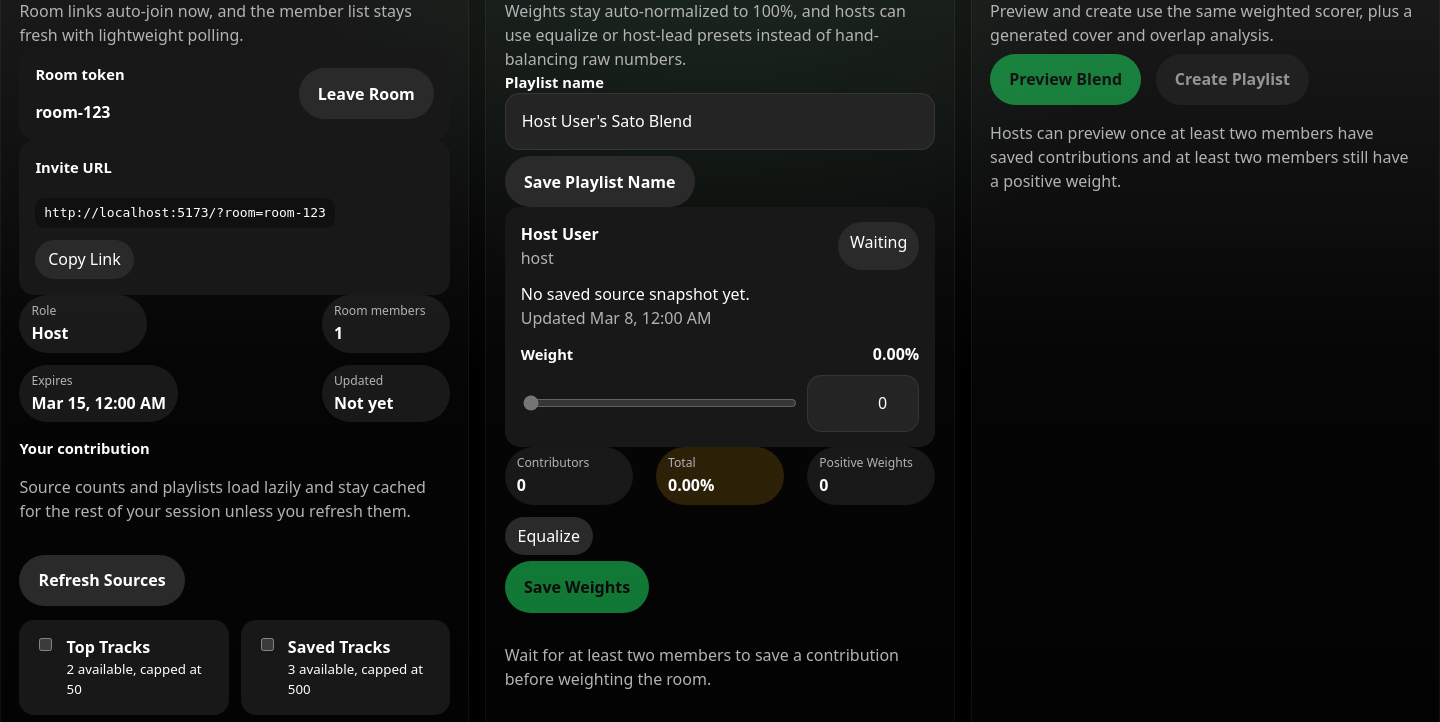
BlendView › saves the current member contribution from supported Spotify sources
What coordinates should you click on to do the following:
click the checkbox labelled "Top Tracks 2 available, capped at 50"
I would click on:
 (46, 644)
Its box is top-left (39, 638), bottom-right (52, 651).
(page scrolled)
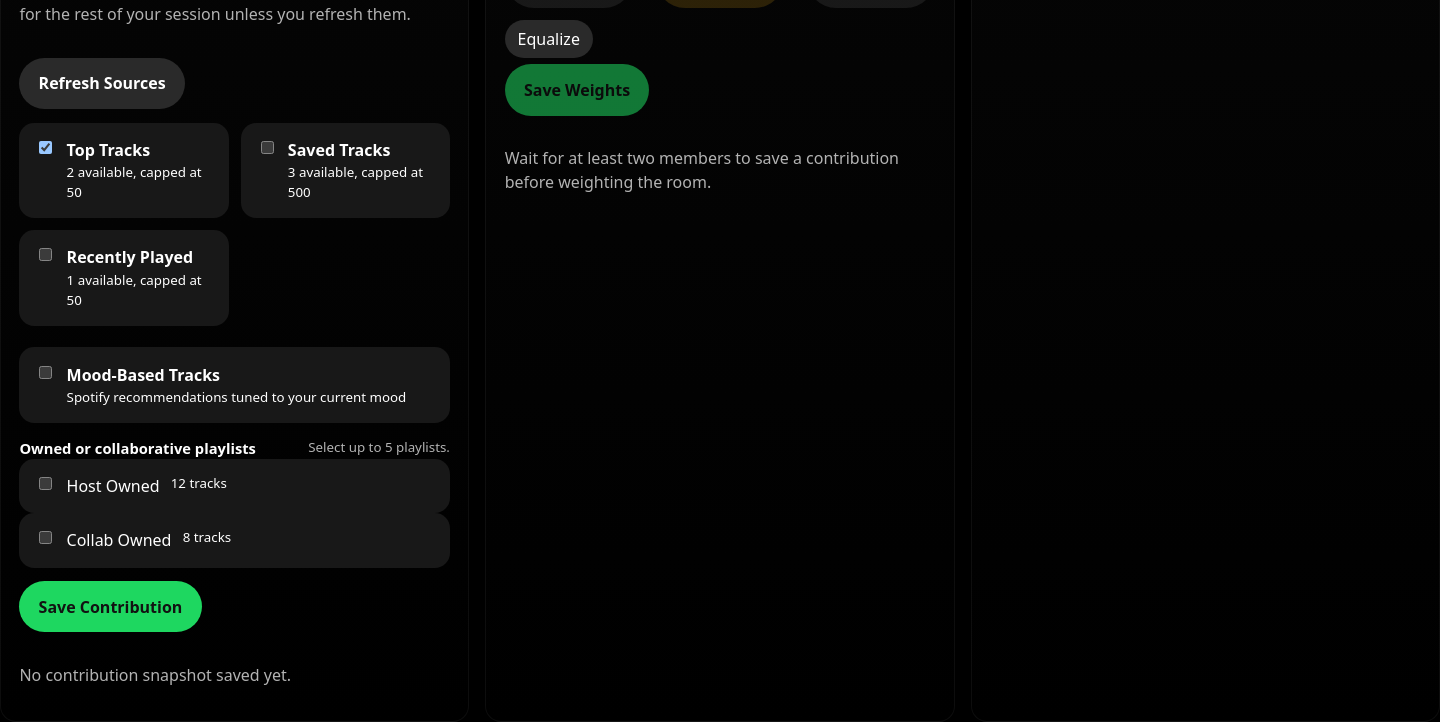
What coordinates should you click on to do the following:
click the checkbox labelled "Host Owned 12 tracks"
I would click on:
 (46, 484)
Its box is top-left (39, 477), bottom-right (52, 490).
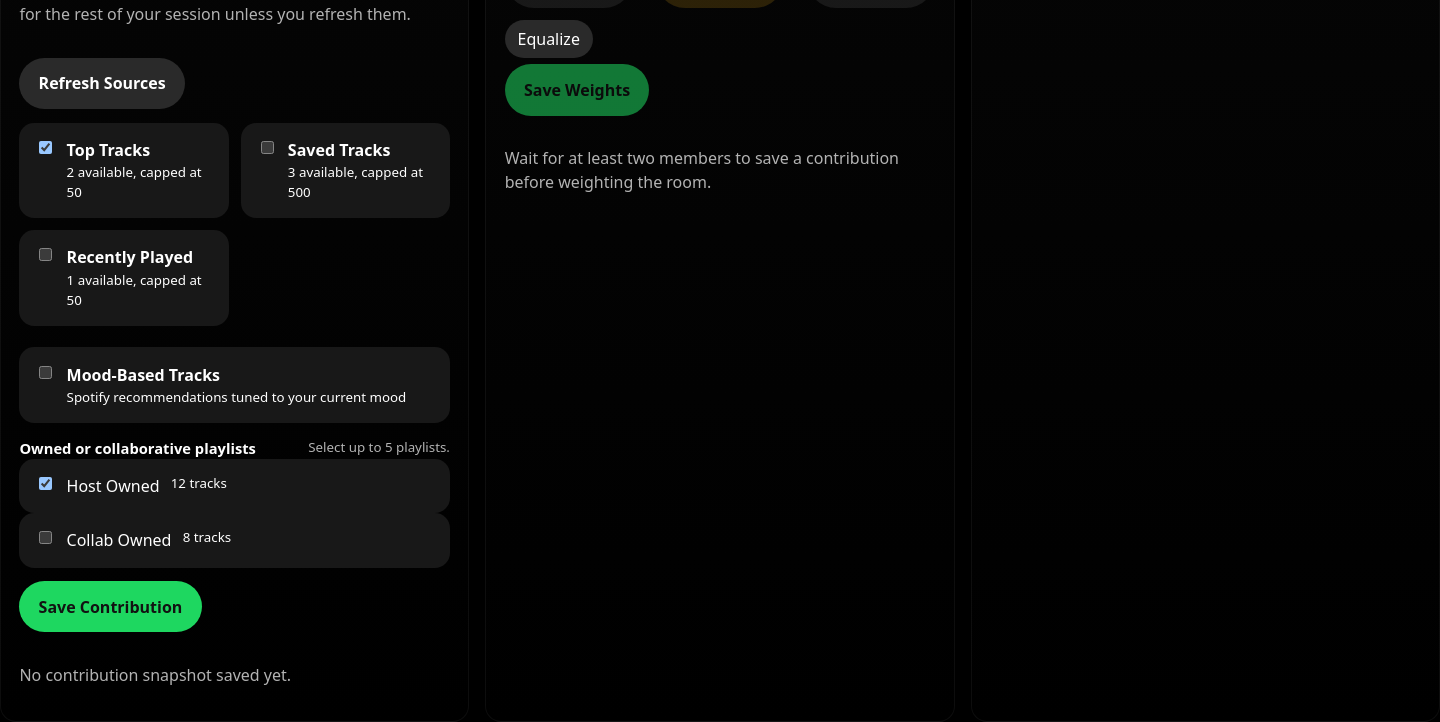
What coordinates should you click on to do the following:
click the button "Save Contribution"
I would click on:
 (110, 607)
Its box is top-left (19, 581), bottom-right (202, 632).
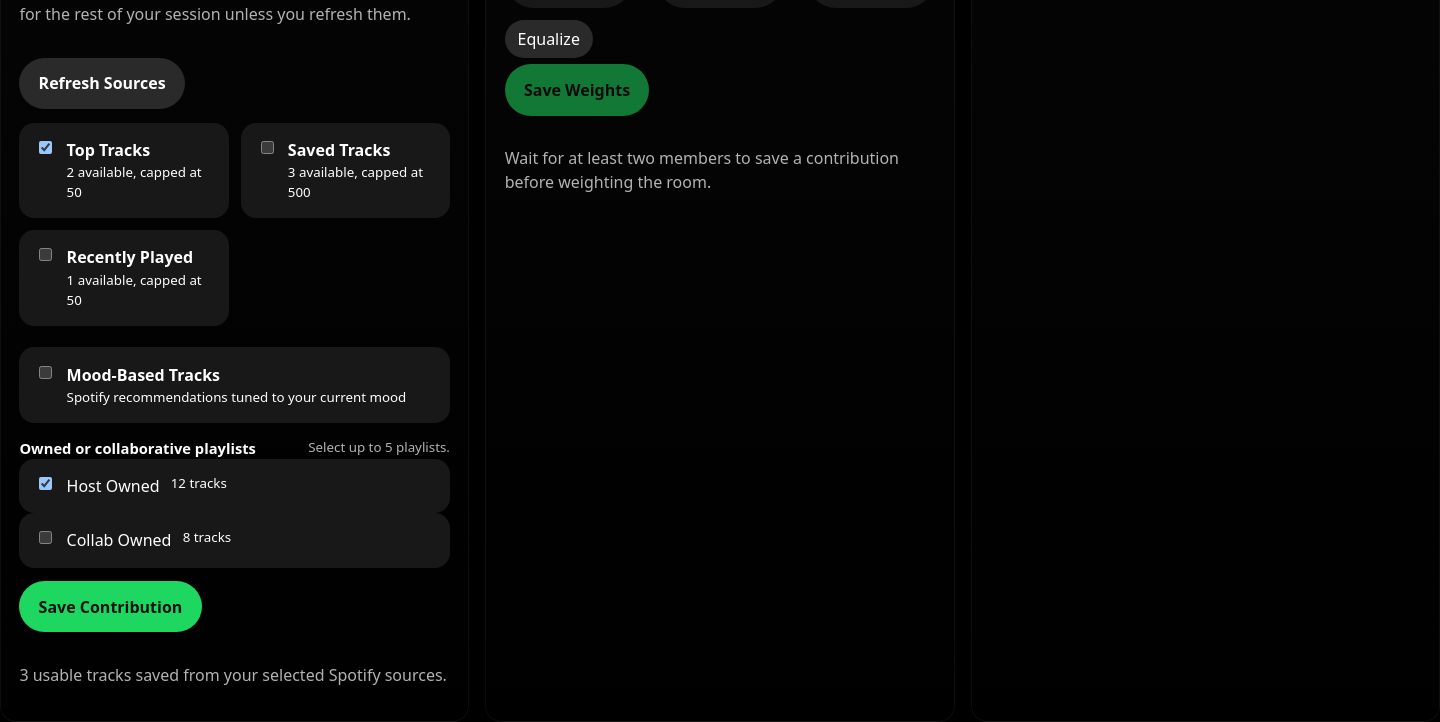
expect the text "3 usable tracks saved" is shown: met, box top-left (19, 664), bottom-right (447, 686)
